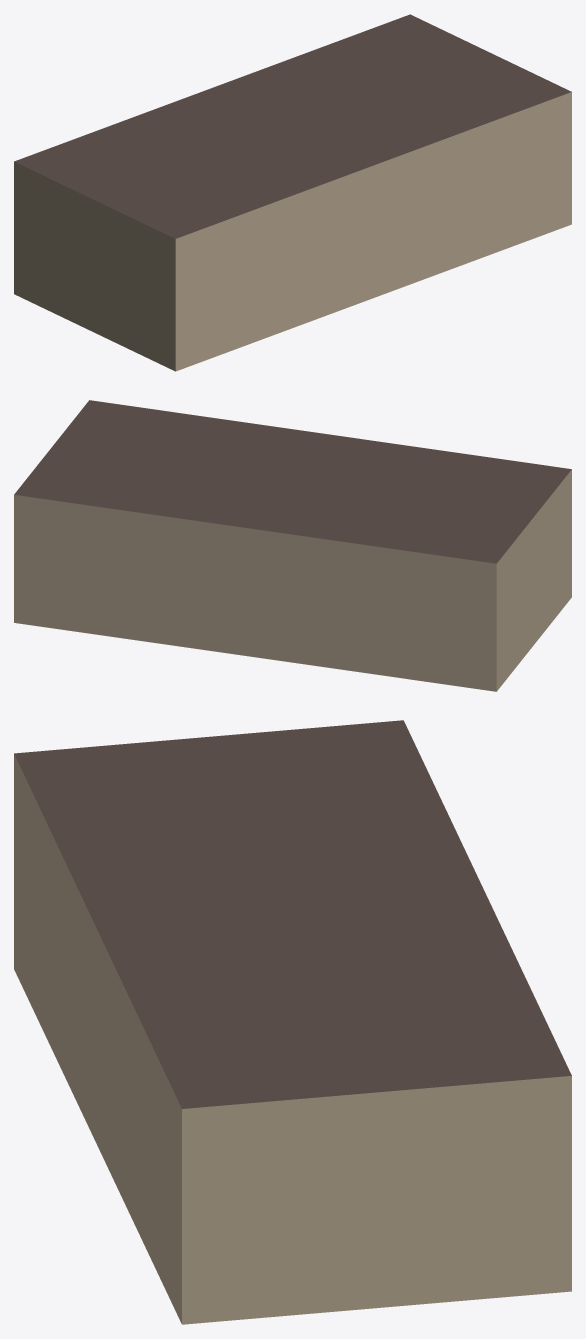
The picture shows the model from 3 angles, top to bottom: view 1: azimuth 30°, elevation 25°; view 2: azimuth 150°, elevation 25°; view 3: azimuth 270°, elevation 25°; orthographic projection. The views are drawn at different scales.
Parts seen in each view (by area): view 1: HP-w859457336; view 2: HP-w859457336; view 3: HP-w859457336.
Part boxes in pixels (x1,y1,x2,y2): HP-w859457336: (14,14,571,371); HP-w859457336: (14,400,571,691); HP-w859457336: (14,720,571,1324).
Bounding box in the file's own units: 34.79 × 9 × 21.1.
